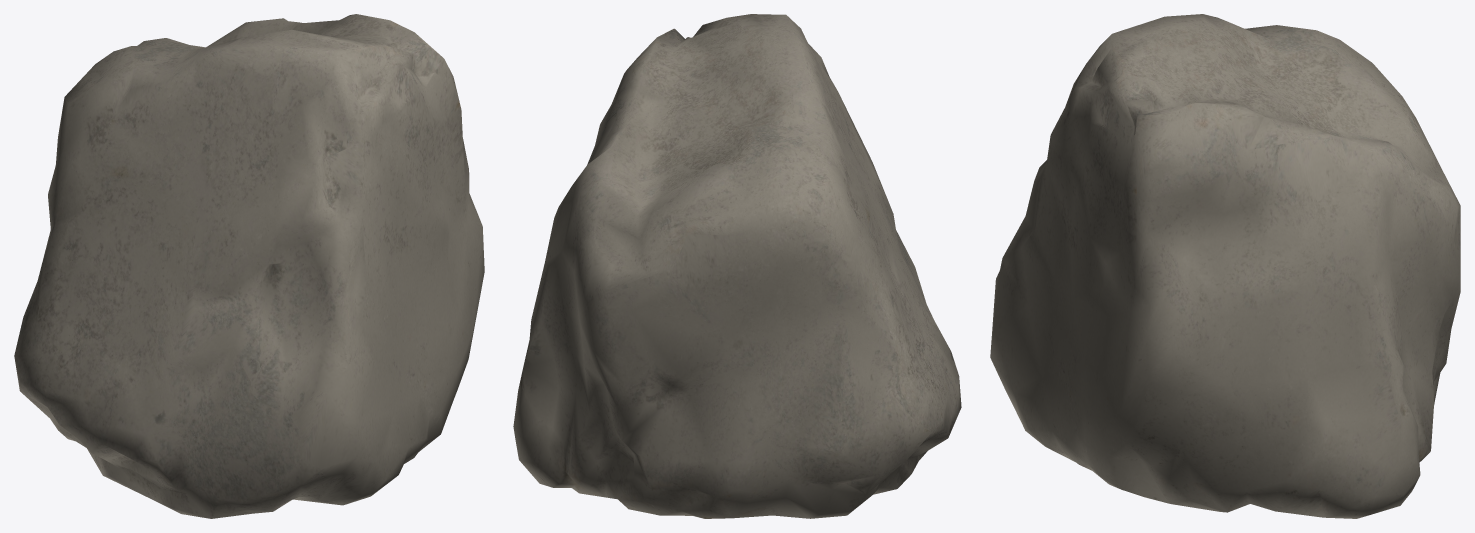
File: moon_rock_02_hi.glb
3 renders of one model, left to right at view 1: azimuth 30°, elevation 25°; view 2: azimuth 150°, elevation 25°; view 3: azimuth 270°, elevation 25°, orthographic. The views are drawn at different scales.
Parts seen in each view (by area): view 1: moon_rock_02_hi; view 2: moon_rock_02_hi; view 3: moon_rock_02_hi.
Part boxes in pixels (x1,y1,x2,y2): moon_rock_02_hi: [14, 14, 484, 518]; moon_rock_02_hi: [513, 14, 961, 518]; moon_rock_02_hi: [990, 14, 1460, 518].
Size of the model in its own units: 0.9837 by 1 by 0.9992.
Materials: 1 (1 with a texture image).
